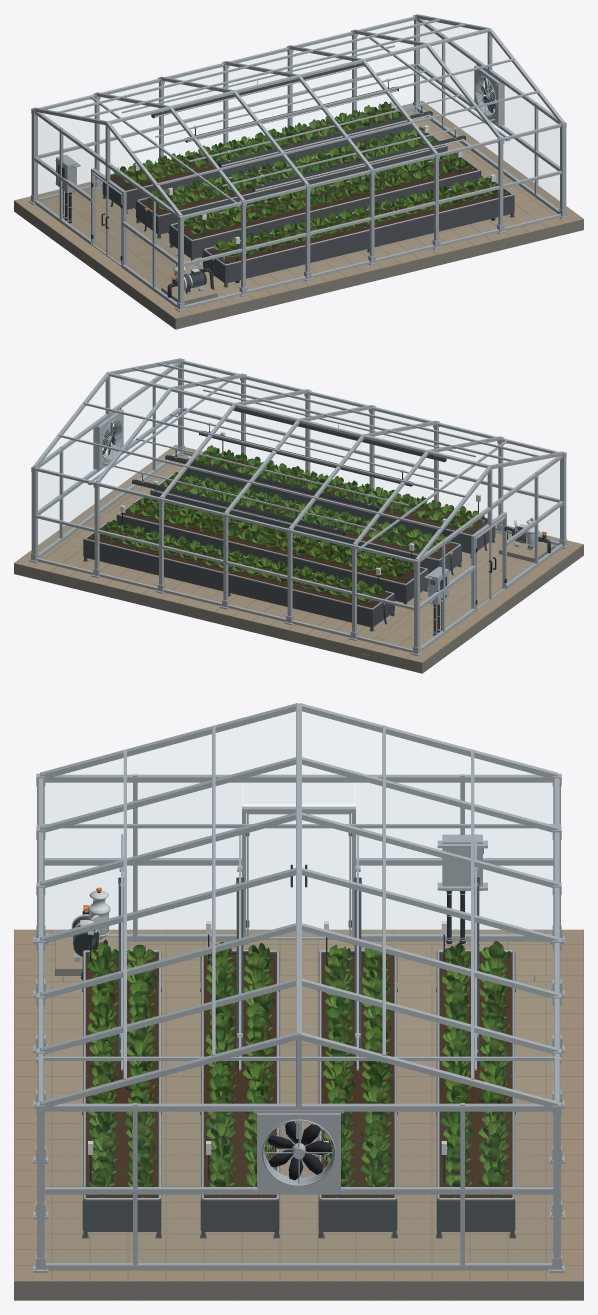
File: greenhouse.glb
3 renders of one model, top to bottom at view 1: azimuth 30°, elevation 25°; view 2: azimuth 150°, elevation 25°; view 3: azimuth 270°, elevation 25°, orthographic. The views are drawn at different scales.
Parts seen in each view (by area): view 1: SM_FloorTiles_01, SM_StructureFrame_01, SM_StructureFrameNear_01, SM_Base_01, SM_PlantingBed_01, SM_RoofFrame_Near_01, SM_StructureFrameFar_01, SM_Crops_Bed_02, SM_Crops_Bed_04, SM_Crops_Bed_03, SM_Crops_Bed_01, SM_RoofFrame_Far_01 (+23 smaller); view 2: SM_FloorTiles_01, SM_StructureFrame_01, SM_StructureFrameFar_01, SM_Base_01, SM_PlantingBed_04, SM_RoofFrame_Far_01, SM_StructureFrameNear_01, SM_Crops_Bed_03, SM_Crops_Bed_01, SM_Crops_Bed_02, SM_Crops_Bed_04, SM_Lamp_01 (+22 smaller); view 3: SM_FloorTiles_01, SM_StructureFrame_01, SM_RoofFrame_Far_01, SM_RoofFrame_Near_01, SM_Base_01, SM_RoofFrame_Ends_01, SM_Crops_Bed_04, SM_Crops_Bed_01, SM_Crops_Bed_03, SM_Crops_Bed_02, SM_LampSupportRails_01, SM_SoilBed_03 (+21 smaller).
Part boxes in pixels (<box>): SM_FloorTiles_01: <box>14,100,583,318</box>; SM_StructureFrame_01: <box>31,15,566,307</box>; SM_StructureFrameNear_01: <box>183,123,561,308</box>; SM_Base_01: <box>14,200,583,329</box>; SM_PlantingBed_01: <box>203,181,514,287</box>; SM_RoofFrame_Near_01: <box>132,44,539,200</box>; SM_StructureFrameFar_01: <box>38,16,415,201</box>; SM_Crops_Bed_02: <box>184,153,469,234</box>; SM_Crops_Bed_04: <box>113,101,403,186</box>; SM_Crops_Bed_03: <box>147,127,436,209</box>; SM_Crops_Bed_01: <box>213,176,503,258</box>; SM_RoofFrame_Far_01: <box>58,18,465,117</box>; SM_FloorTiles_01: <box>14,444,583,662</box>; SM_StructureFrame_01: <box>31,359,566,651</box>; SM_StructureFrameFar_01: <box>36,467,414,652</box>; SM_Base_01: <box>14,544,583,673</box>; SM_PlantingBed_04: <box>83,523,394,631</box>; SM_RoofFrame_Far_01: <box>58,388,465,544</box>; SM_StructureFrameNear_01: <box>182,360,559,545</box>; SM_Crops_Bed_03: <box>128,497,413,578</box>; SM_Crops_Bed_01: <box>194,445,481,529</box>; SM_Crops_Bed_02: <box>163,472,450,554</box>; SM_Crops_Bed_04: <box>94,520,384,603</box>; SM_Lamp_01: <box>132,407,446,535</box>; SM_FloorTiles_01: <box>14,929,583,1281</box>; SM_StructureFrame_01: <box>37,773,560,1270</box>; SM_RoofFrame_Far_01: <box>302,725,557,1079</box>; SM_RoofFrame_Near_01: <box>40,725,295,1079</box>; SM_Base_01: <box>14,1281,583,1300</box>; SM_RoofFrame_Ends_01: <box>40,703,557,1107</box>; SM_Crops_Bed_04: <box>440,941,510,1186</box>; SM_Crops_Bed_01: <box>87,942,156,1186</box>; SM_Crops_Bed_03: <box>323,944,392,1186</box>; SM_Crops_Bed_02: <box>205,942,275,1186</box>; SM_LampSupportRails_01: <box>36,824,561,1070</box>; SM_SoilBed_03: <box>322,954,393,1197</box>.
Bounding box in the file's own units: 12.7 × 4.32 × 8.7.
16 materials, 4 textured.
